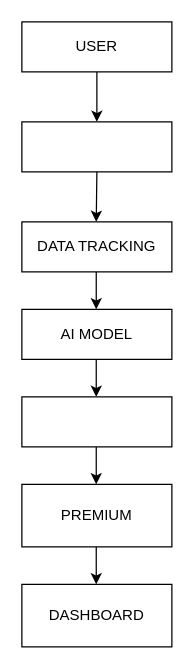
The diagram is 194 pixels wide and 669 high, and some of its shapes have lost their labels. The centre of each missing label's shape, as x and y in pixels:
"APP" goes at pixel 96 146.
"RISK SCORE" goes at pixel 96 421.
